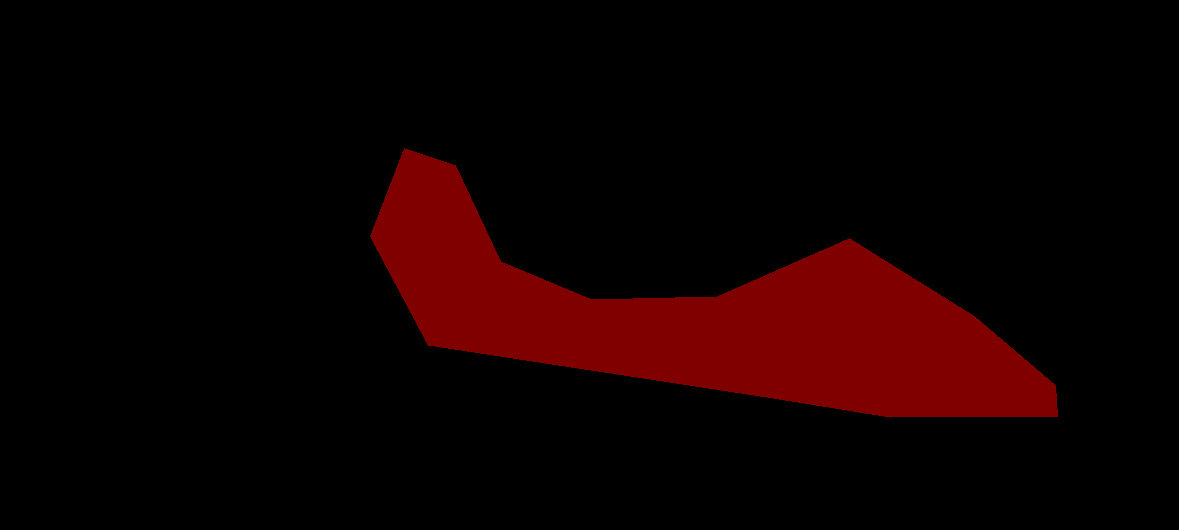fire: (370, 148, 1057, 417)
